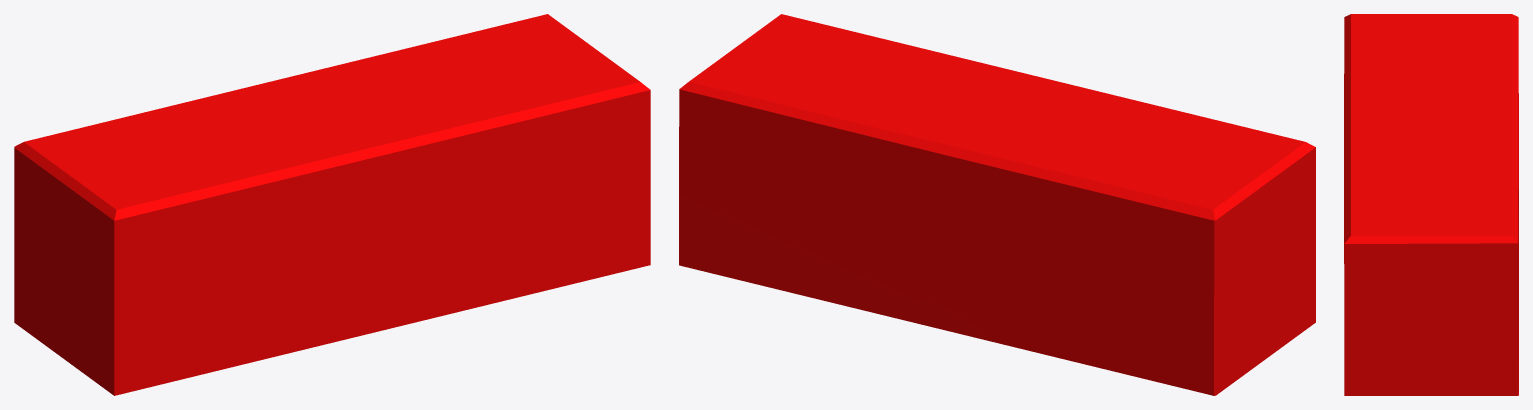
File: Fp324_Ps_324_Shelf_6_Fp324_Ps_324_Shelf_6_5.obj
3 renders of one model, left to right at view 1: azimuth 30°, elevation 25°; view 2: azimuth 150°, elevation 25°; view 3: azimuth 270°, elevation 25°, orthographic. The views are drawn at different scales.
Visible parts, largest first — view 1: Fp324_Ps_324_Shelf_6; view 2: Fp324_Ps_324_Shelf_6; view 3: Fp324_Ps_324_Shelf_6.
Boxes of the visible parts, x1,y1,x2,y2 form: Fp324_Ps_324_Shelf_6: (14, 14, 650, 395); Fp324_Ps_324_Shelf_6: (679, 14, 1315, 395); Fp324_Ps_324_Shelf_6: (1344, 14, 1518, 395).
Bounding box in the file's own units: 0.435 × 0.1409 × 0.1415.
